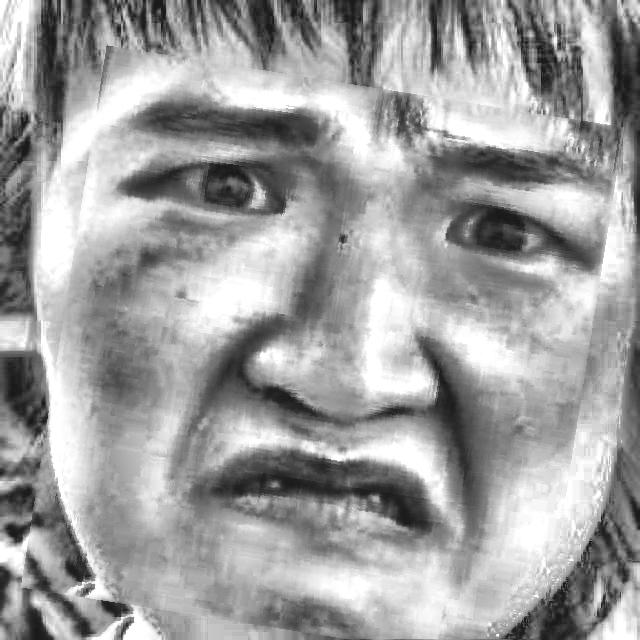angry: (41, 64, 604, 640)
